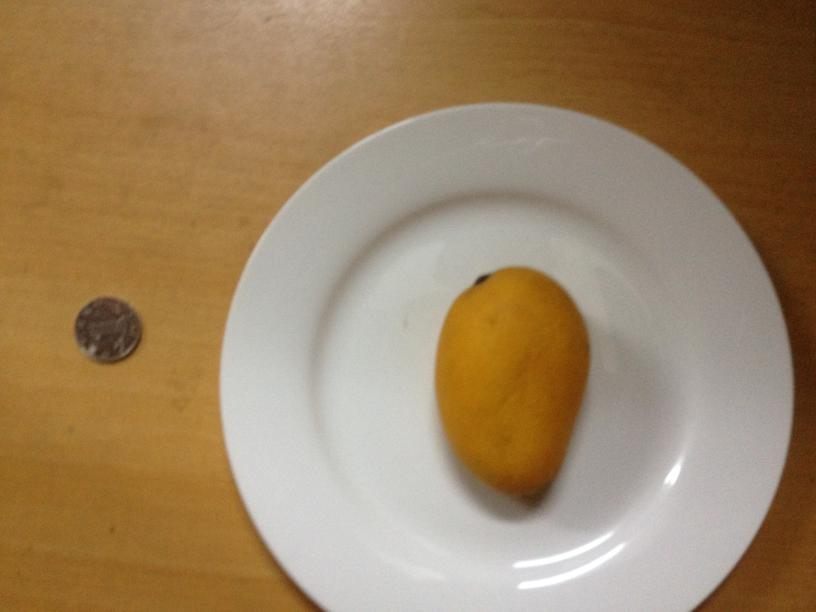coin: (441, 270, 589, 502)
mango: (441, 270, 589, 502)
